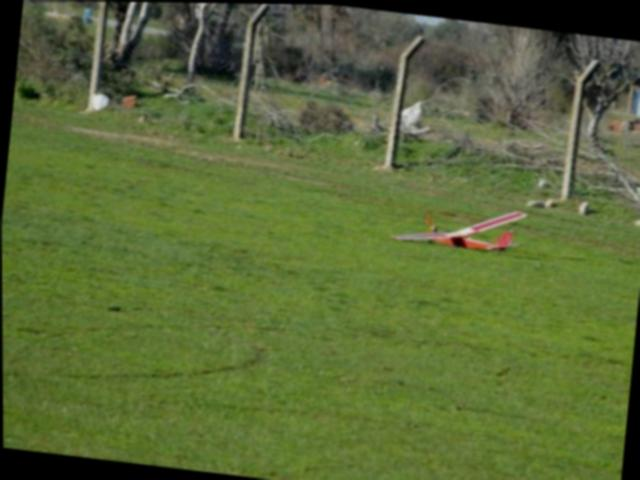iha: (386, 189, 537, 261)
